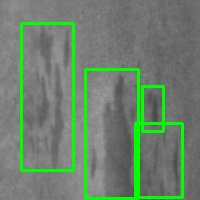inclusion: (21, 23, 73, 170), (85, 69, 138, 198), (135, 123, 182, 197), (142, 86, 163, 131)
